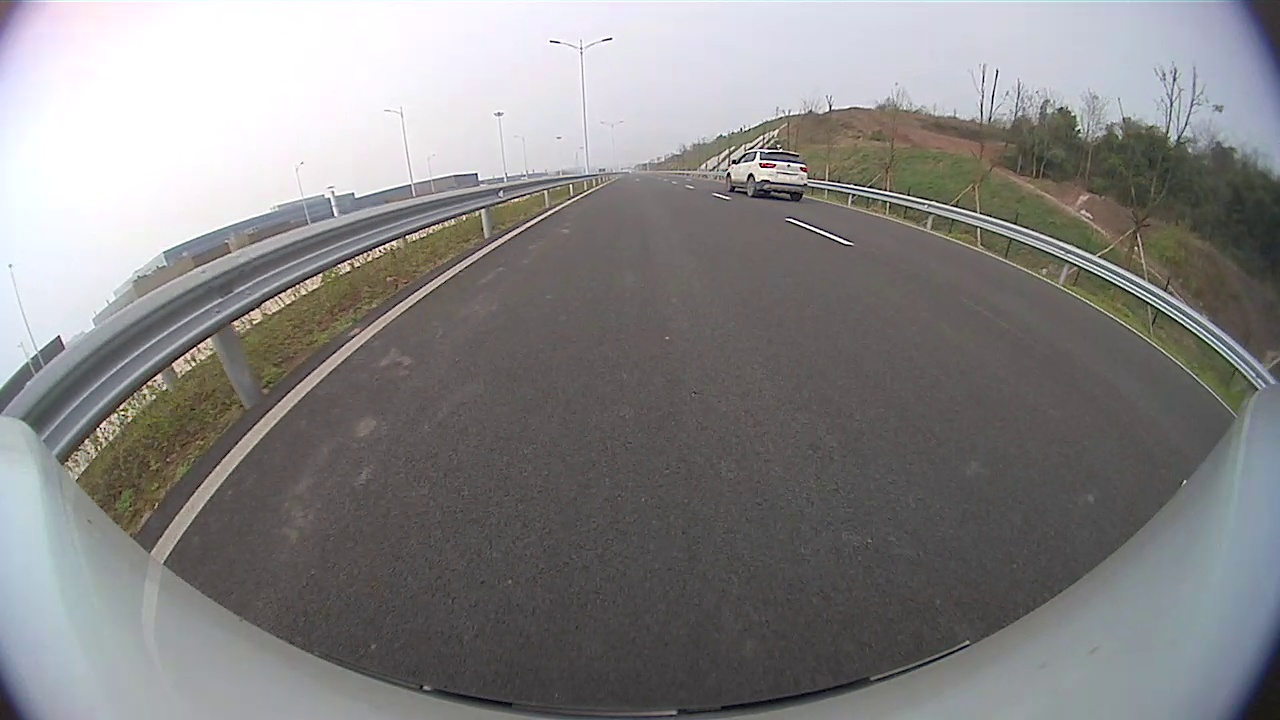car: (723, 149, 809, 203)
front: (725, 175, 734, 194)
rear: (746, 175, 757, 198)
